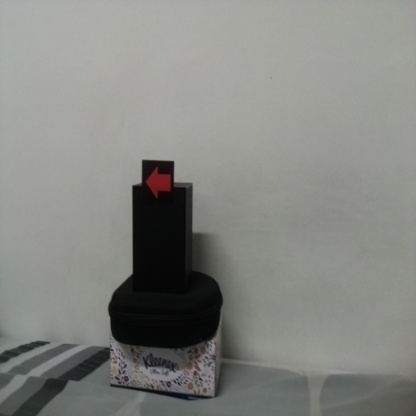id_4: (142, 162, 174, 206)
